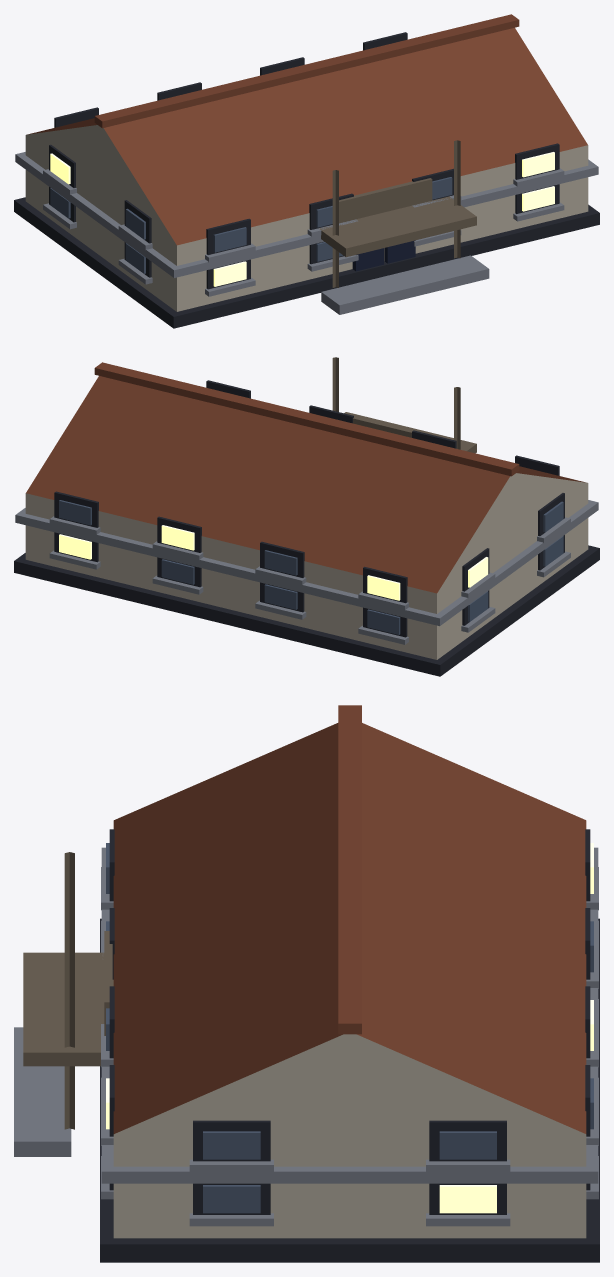
Rendered from guest-high.glb.
3 views of the same model, one above another, from view 1: azimuth 30°, elevation 25°; view 2: azimuth 150°, elevation 25°; view 3: azimuth 270°, elevation 25° (orthographic). The views are drawn at different scales.
Size of the model in its own units: 45.6 by 15.37 by 34.7.
